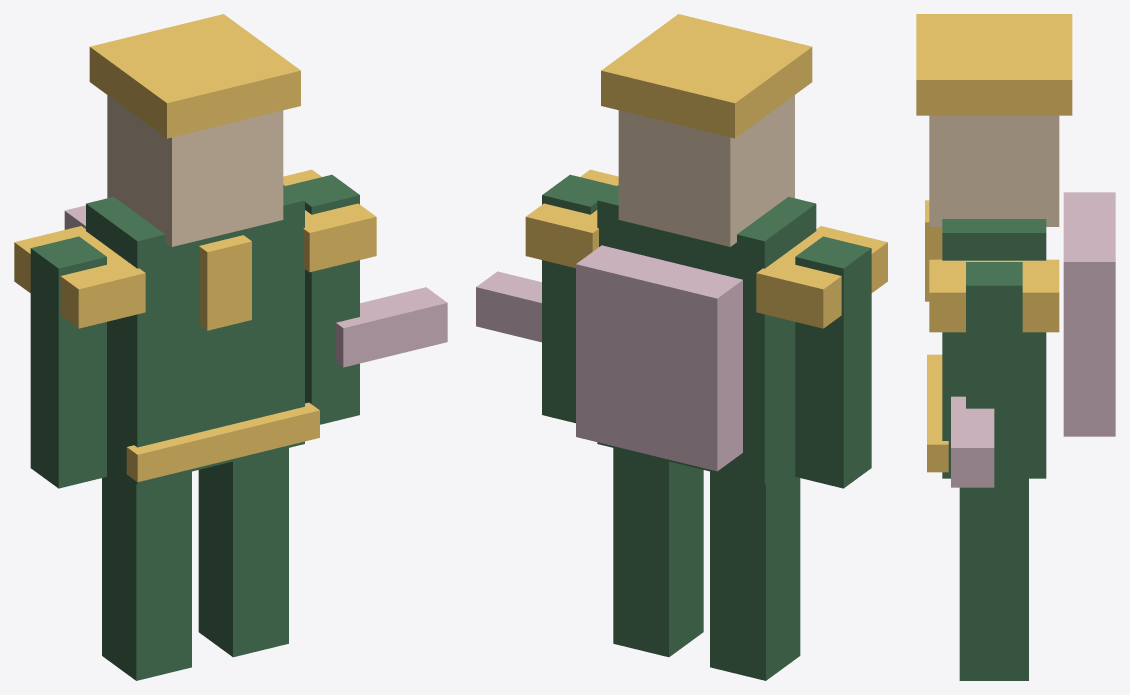
Rendered from 06_juno_deepwell_warden_of_adaptive.glb.
3 views of the same model, side by side, from view 1: azimuth 30°, elevation 25°; view 2: azimuth 150°, elevation 25°; view 3: azimuth 270°, elevation 25° (orthographic).
Visible parts, largest first — view 1: Juno Deepwell, Warden of Adaptive; view 2: Juno Deepwell, Warden of Adaptive; view 3: Juno Deepwell, Warden of Adaptive.
Part boxes in pixels (bbox=[...]): Juno Deepwell, Warden of Adaptive: bbox=[14, 14, 447, 680]; Juno Deepwell, Warden of Adaptive: bbox=[476, 14, 887, 680]; Juno Deepwell, Warden of Adaptive: bbox=[916, 14, 1115, 680].
Bounding box in the file's own units: 1.11 × 1.64 × 0.4961.
